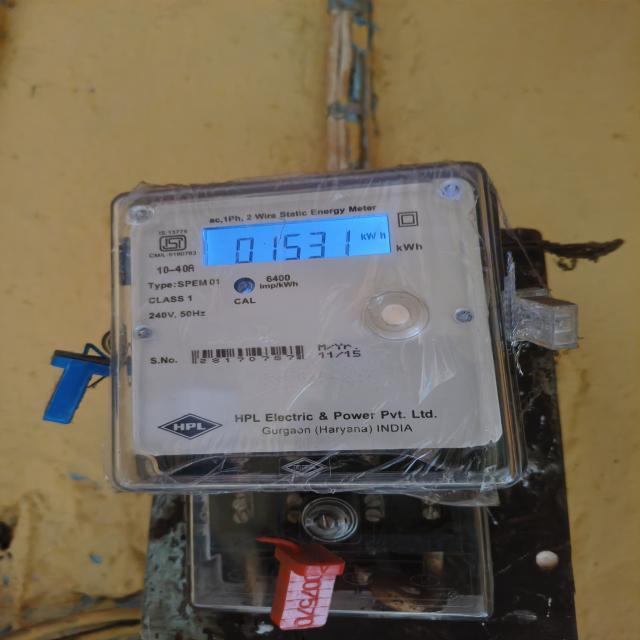display: (192, 214, 405, 269)
